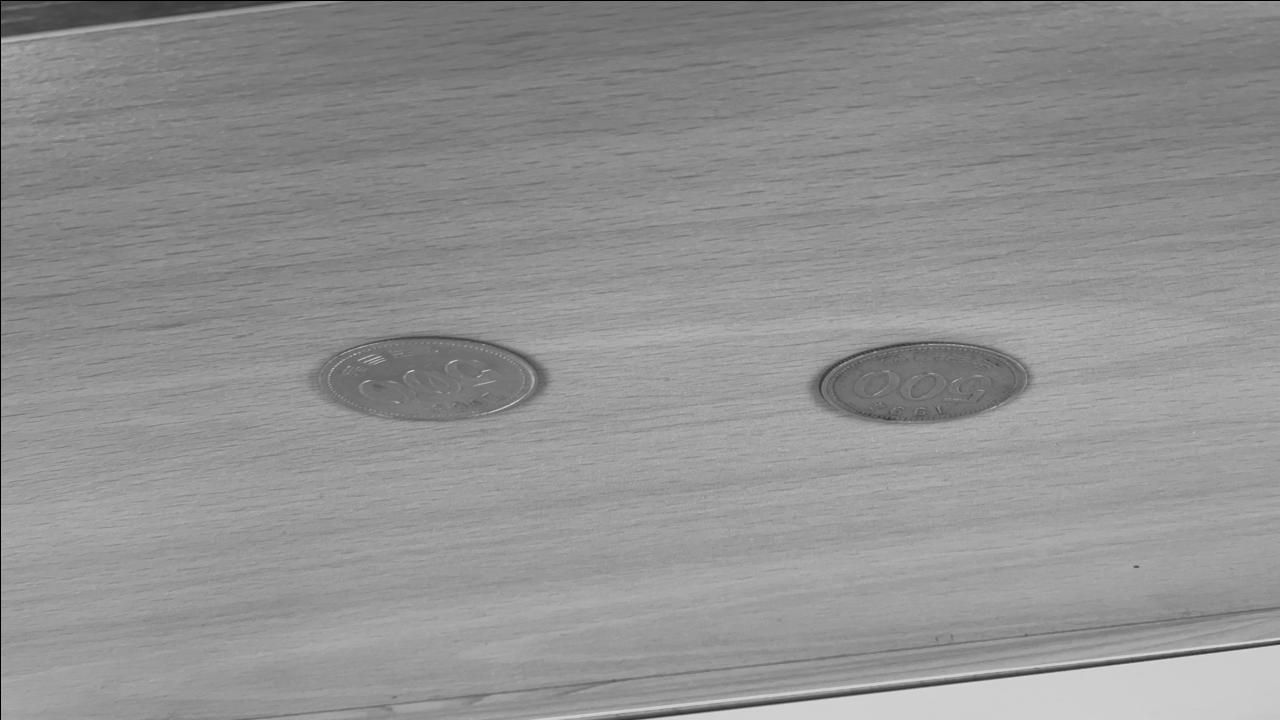coin: (309, 334, 544, 424), (814, 340, 1035, 426)
